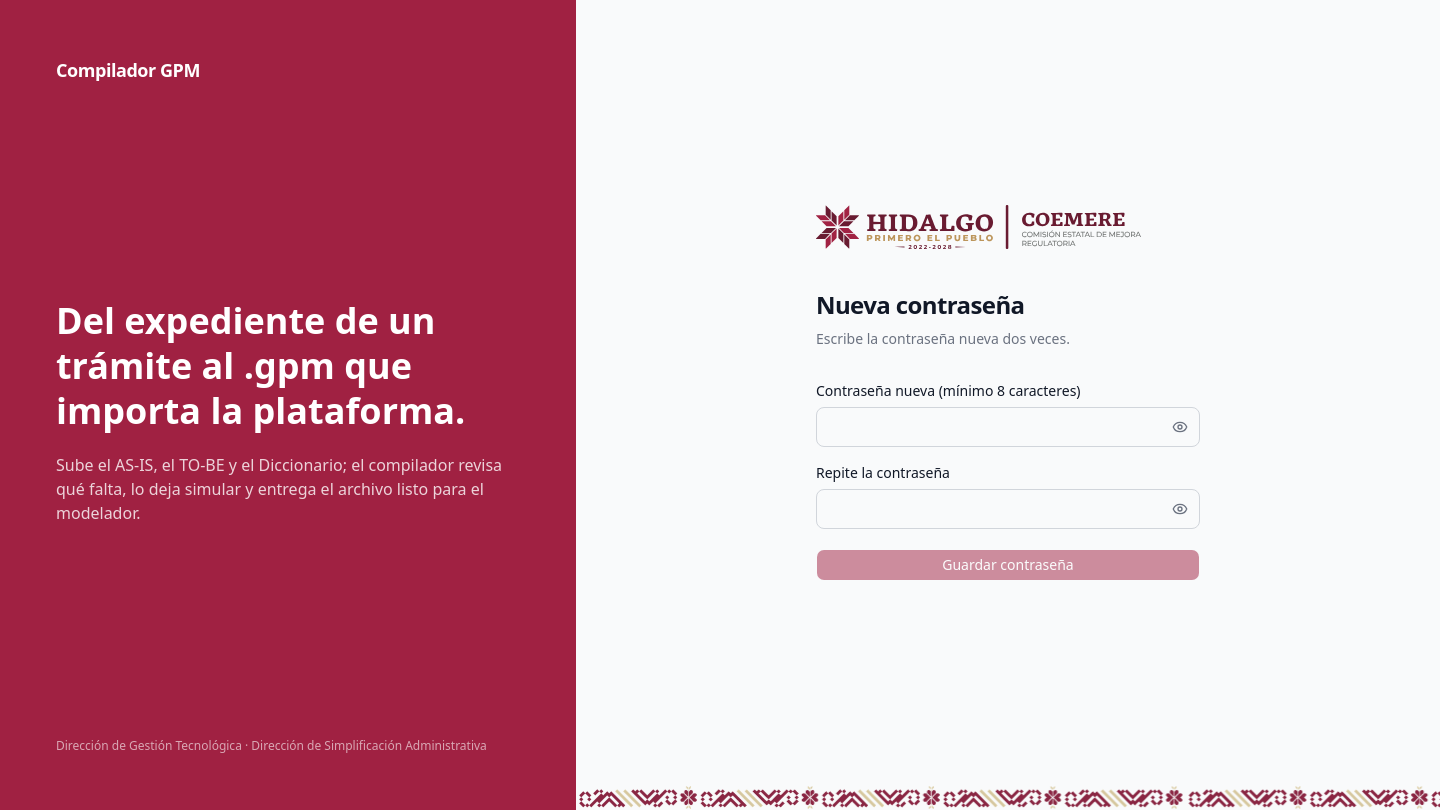
it: la liga del correo pide la contraseña nueva dos veces y la guarda con el token
Type "Nueva-789!" into the password field labelled "Contraseña nueva (mínimo 8 caracteres)".
click(1008, 427); type("Nueva-789!")  # box [816,407,1200,447]
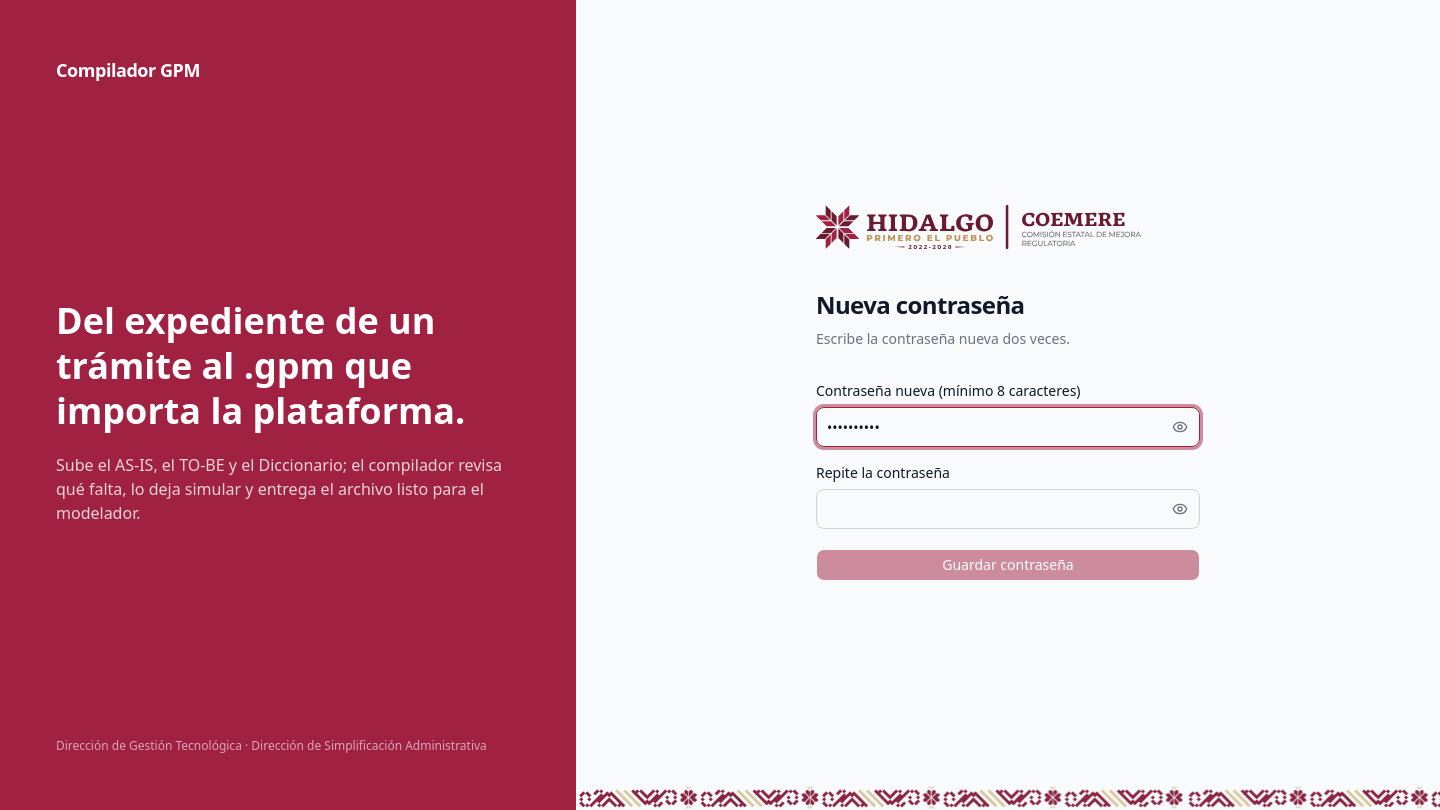
Type "Nueva-789!" into the password field labelled "Repite la contraseña".
click(1008, 509); type("Nueva-789!")  # box [816,489,1200,529]
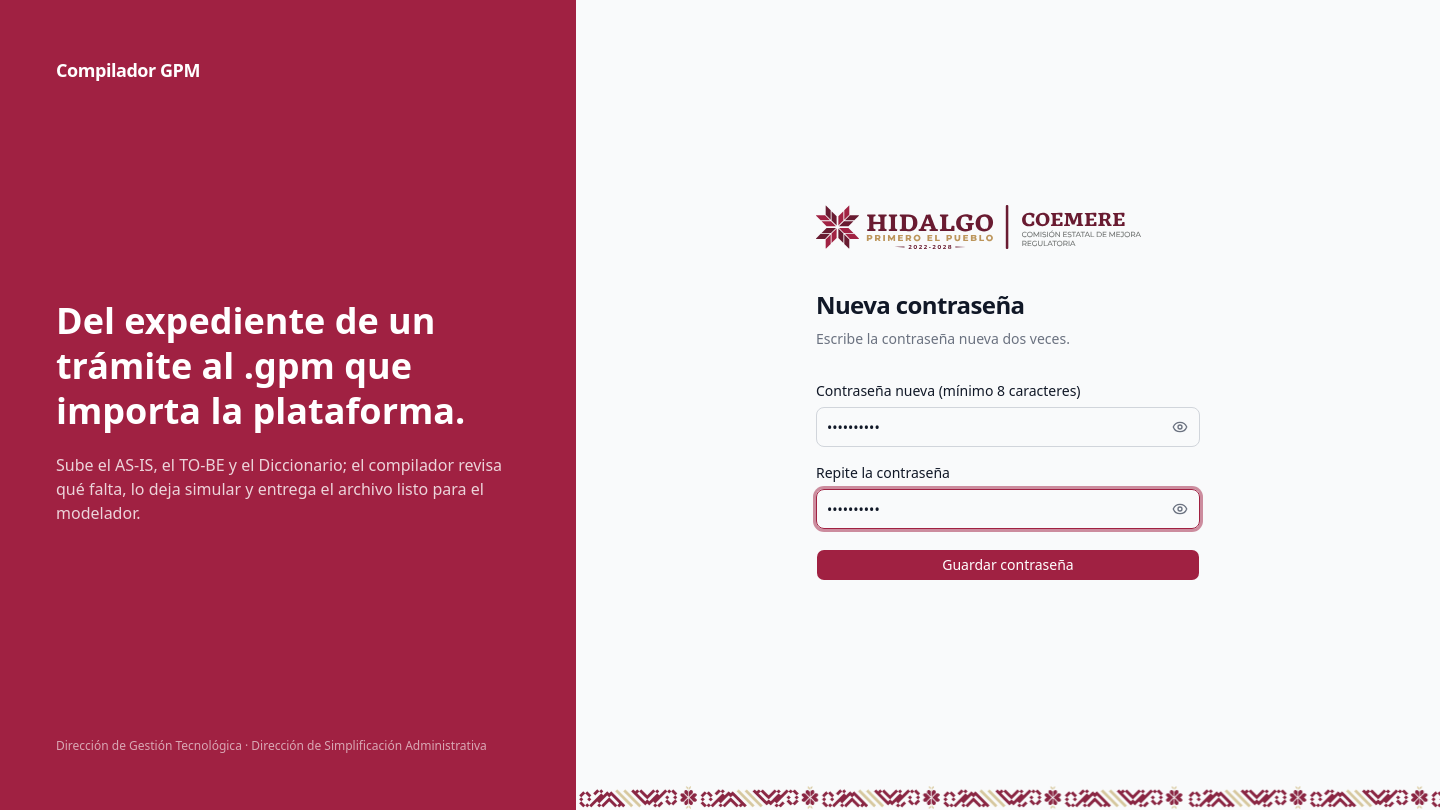
Click the button "Guardar contraseña".
click(1008, 565)  # box [816,549,1200,581]
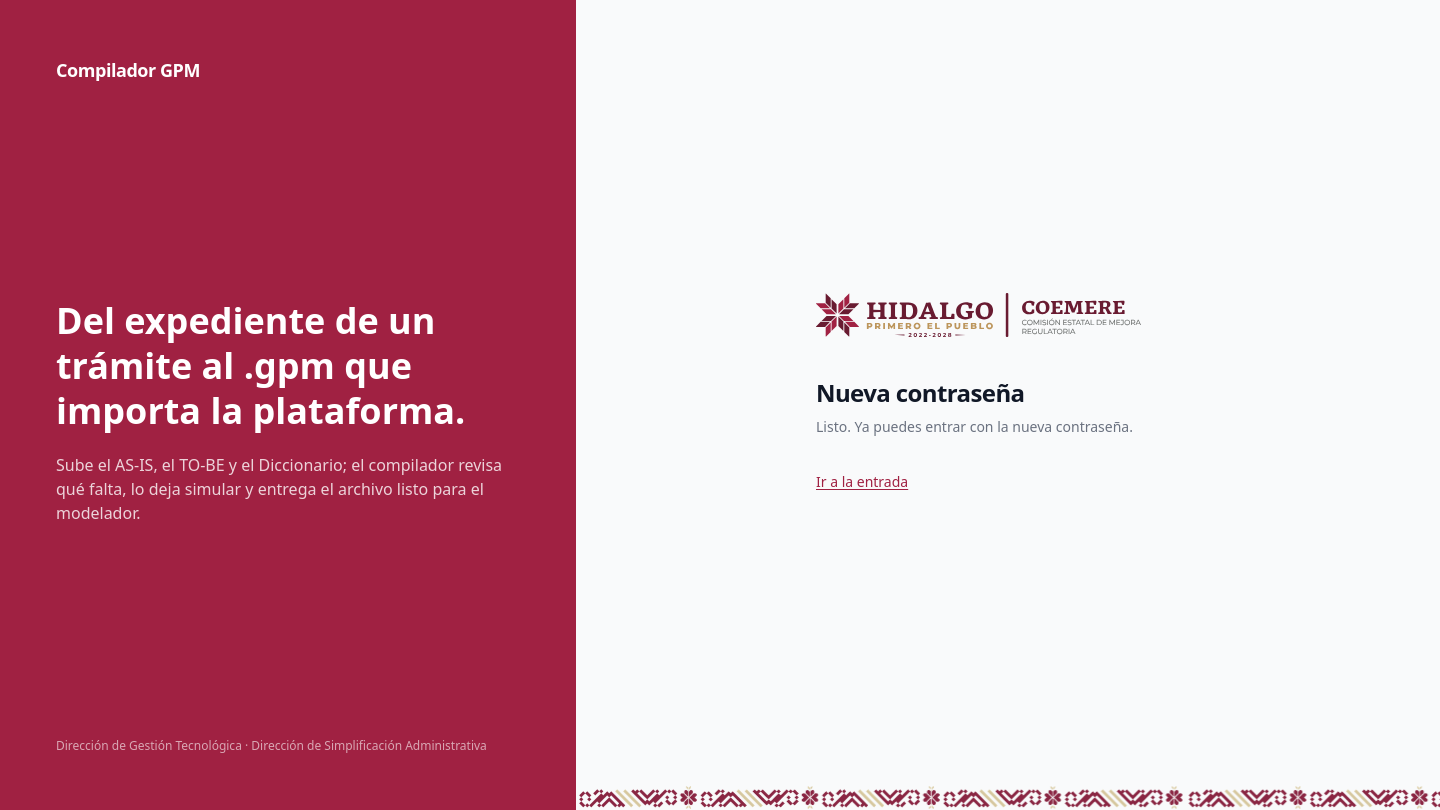
Check: the link "Ir a la entrada" is shown, box [816,472,908,491]
